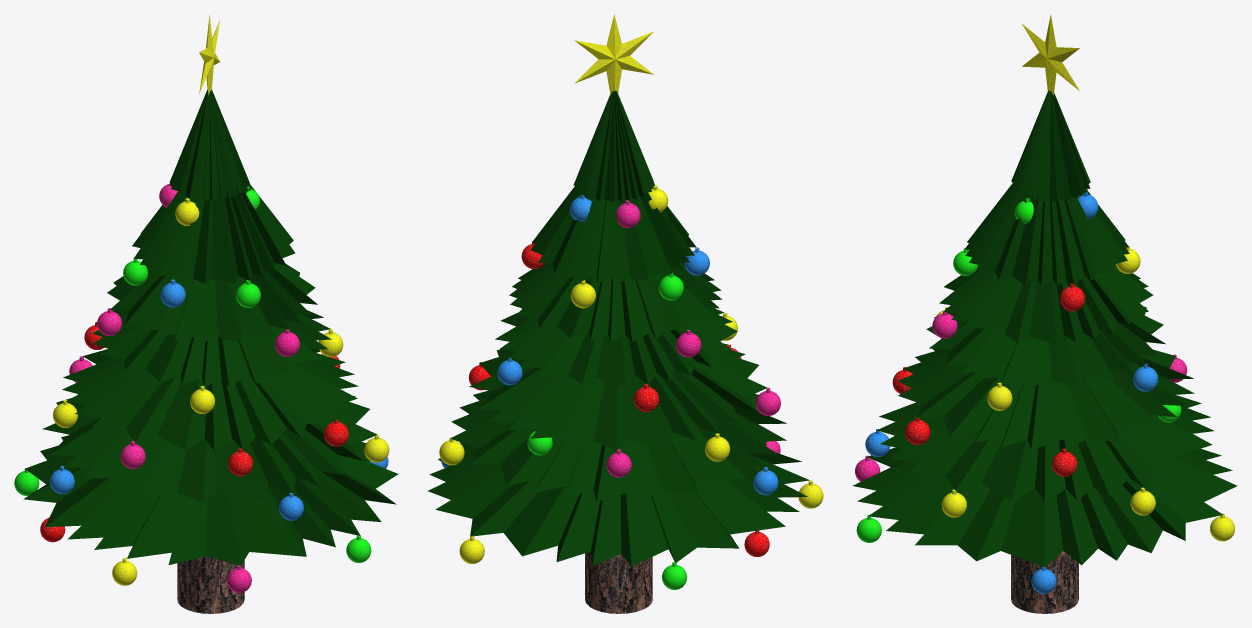
The model's file is christmasTree1.dae.
3 renders of one model, left to right at view 1: azimuth 30°, elevation 25°; view 2: azimuth 150°, elevation 25°; view 3: azimuth 270°, elevation 25°, orthographic.
Visible parts, largest first — view 1: group_0 (×7), SketchUp, group_34, group_21, group_18, group_17, group_15, group_16, group_19, group_11, group_24, group_20 (+5 smaller); view 2: group_0 (×7), SketchUp, group_34, group_6, group_24, group_9, group_18, group_8, group_27, group_30; view 3: group_0 (×7), SketchUp, group_34, group_9, group_1, group_2, group_4, group_5, group_11, group_3, group_16, group_12 (+2 smaller).
Boxes of the visible parts, box(x1,y1,x2,y2) form: group_0 (×7): box(23, 89, 398, 565); SketchUp: box(177, 556, 244, 613); group_34: box(199, 15, 220, 95); group_21: box(160, 279, 185, 307); group_18: box(120, 441, 145, 468); group_17: box(112, 557, 137, 585); group_15: box(279, 492, 303, 520); group_16: box(346, 535, 371, 562); group_19: box(228, 448, 253, 476); group_11: box(364, 435, 389, 462); group_24: box(49, 466, 74, 494); group_20: box(190, 386, 215, 413); group_0 (×7): box(428, 91, 809, 566); SketchUp: box(585, 551, 652, 613); group_34: box(574, 14, 653, 94); group_6: box(606, 449, 631, 477); group_24: box(753, 467, 778, 495); group_9: box(459, 536, 484, 563); group_18: box(755, 387, 780, 415); group_8: box(570, 280, 595, 308); group_27: box(705, 433, 729, 461); group_30: box(634, 383, 659, 411); group_0 (×7): box(852, 90, 1237, 567); SketchUp: box(1011, 550, 1078, 613); group_34: box(1022, 14, 1079, 95); group_9: box(1210, 513, 1235, 541); group_1: box(1130, 487, 1155, 515); group_2: box(1052, 448, 1077, 476); group_4: box(1060, 283, 1085, 311); group_5: box(987, 382, 1012, 410); group_11: box(941, 489, 966, 517); group_3: box(1133, 363, 1158, 391); group_16: box(856, 514, 881, 542); group_12: box(905, 417, 930, 444).
Size of the model in its own units: 70.3 by 68.38 by 115.
Materials: 9 (1 with a texture image).
